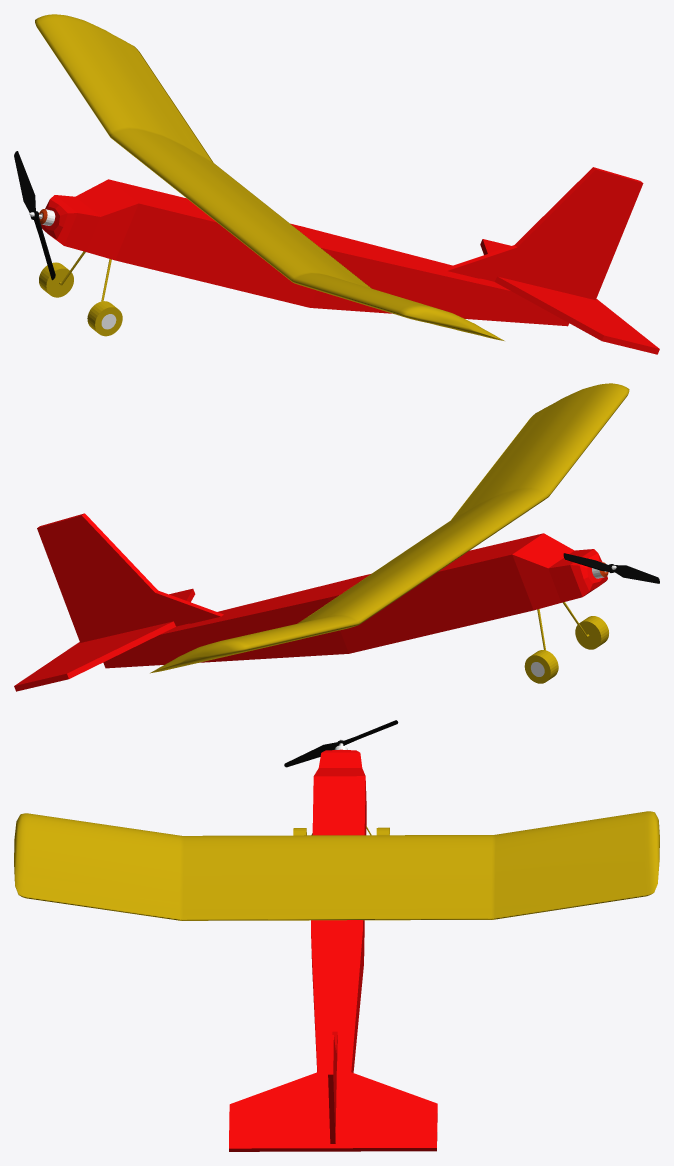
3 views of the same model, one above another, from view 1: azimuth 30°, elevation 25°; view 2: azimuth 150°, elevation 25°; view 3: azimuth 270°, elevation 25° (orthographic). The views are drawn at different scales.
Visible parts, largest first — view 1: body2.001, Wing2.001, Rudder2.001, elevator2.001, Rear_wheels2.001, prop_10inch.002; view 2: body2.001, Wing2.001, Rudder2.001, elevator2.001, Rear_wheels2.001, prop_10inch.002; view 3: Wing2.001, elevator2.001, body2.001, Rudder2.001, prop_10inch.002.
Part boxes in pixels (bbox=[...]): body2.001: bbox=[41, 179, 569, 326]; Wing2.001: bbox=[35, 14, 504, 340]; Rudder2.001: bbox=[444, 167, 643, 299]; elevator2.001: bbox=[480, 239, 659, 354]; Rear_wheels2.001: bbox=[39, 251, 122, 336]; prop_10inch.002: bbox=[14, 151, 55, 280]; body2.001: bbox=[103, 533, 607, 668]; Wing2.001: bbox=[150, 383, 629, 673]; Rudder2.001: bbox=[37, 513, 223, 642]; elevator2.001: bbox=[14, 588, 195, 691]; Rear_wheels2.001: bbox=[524, 602, 608, 683]; prop_10inch.002: bbox=[563, 553, 659, 583]; Wing2.001: bbox=[14, 811, 659, 920]; elevator2.001: bbox=[229, 1067, 437, 1151]; body2.001: bbox=[311, 749, 366, 1072]; Rudder2.001: bbox=[328, 1031, 337, 1143]; prop_10inch.002: bbox=[284, 720, 398, 767].
Bounding box in the file's own units: 1.13 × 0.4631 × 1.24.
